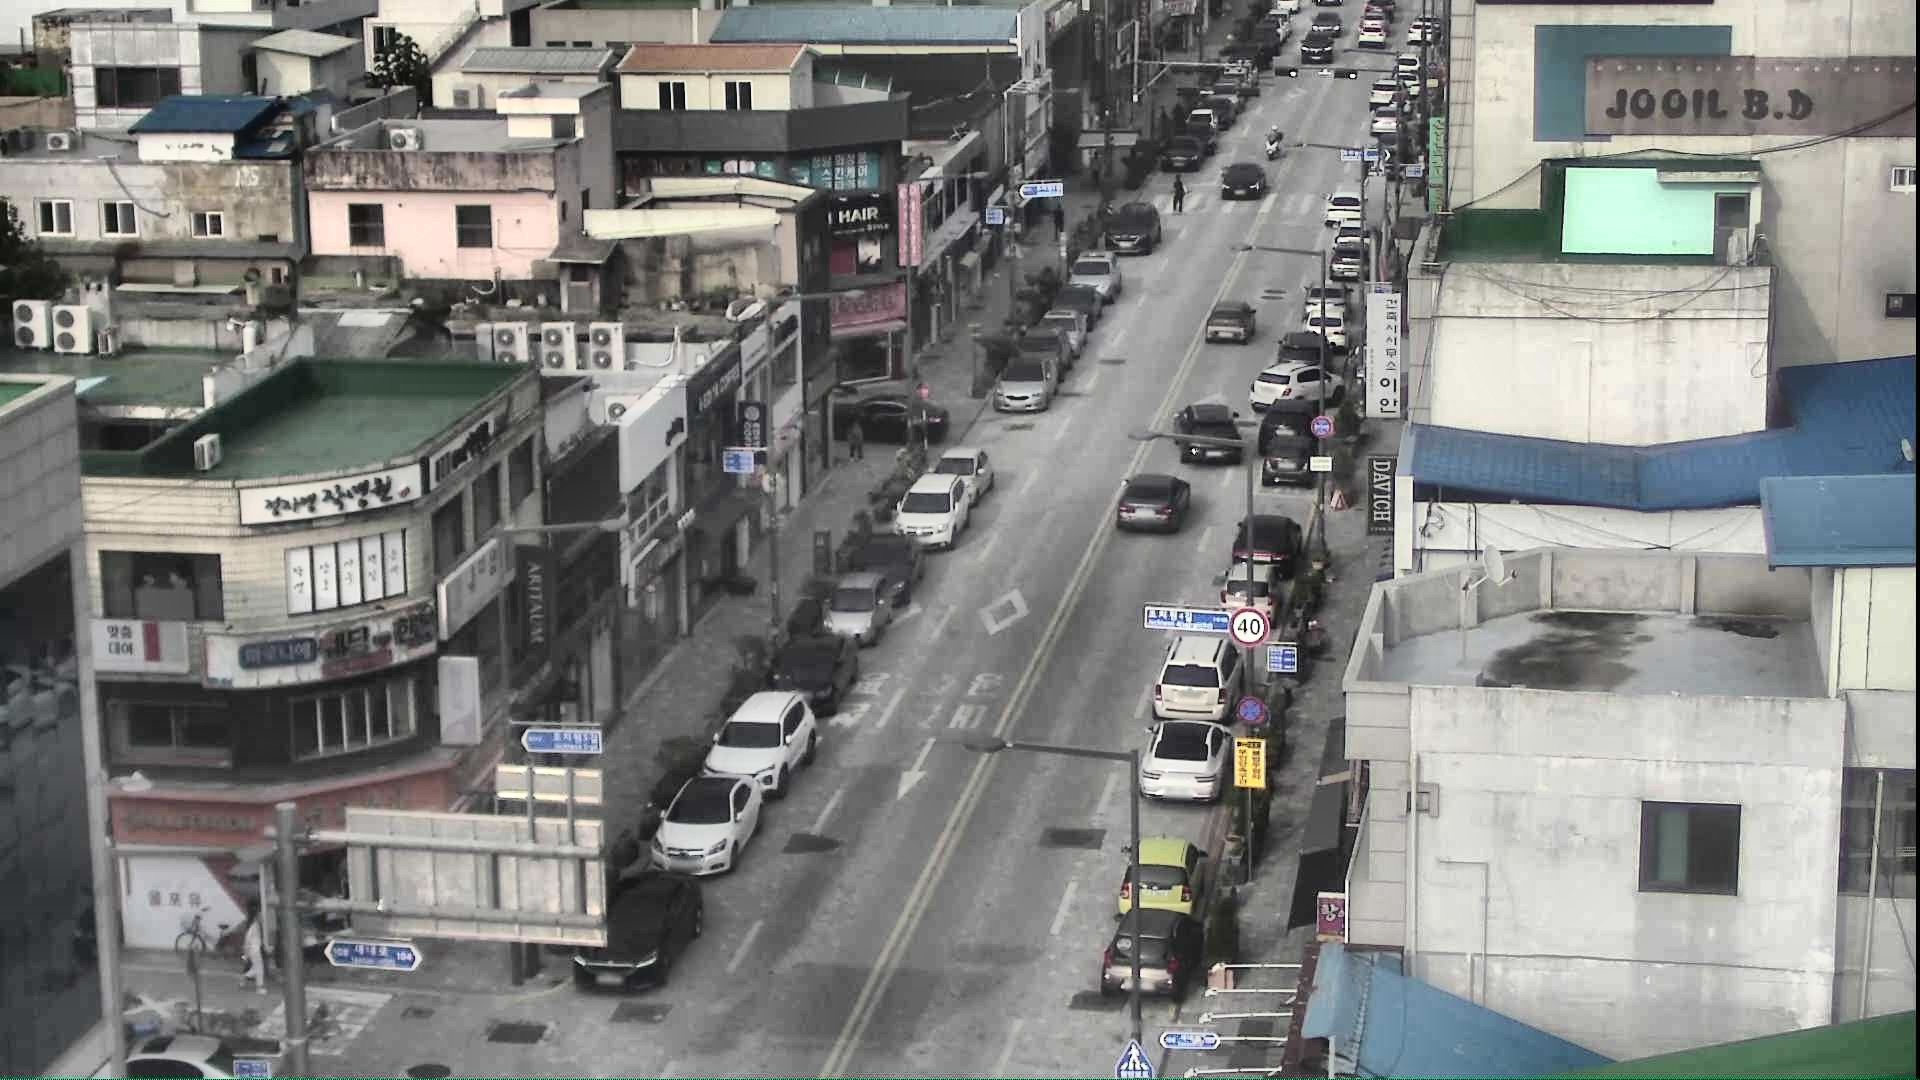crosswalk: (1170, 175, 1185, 218)
sidewalk: (847, 418, 866, 462), (1051, 204, 1068, 237)
